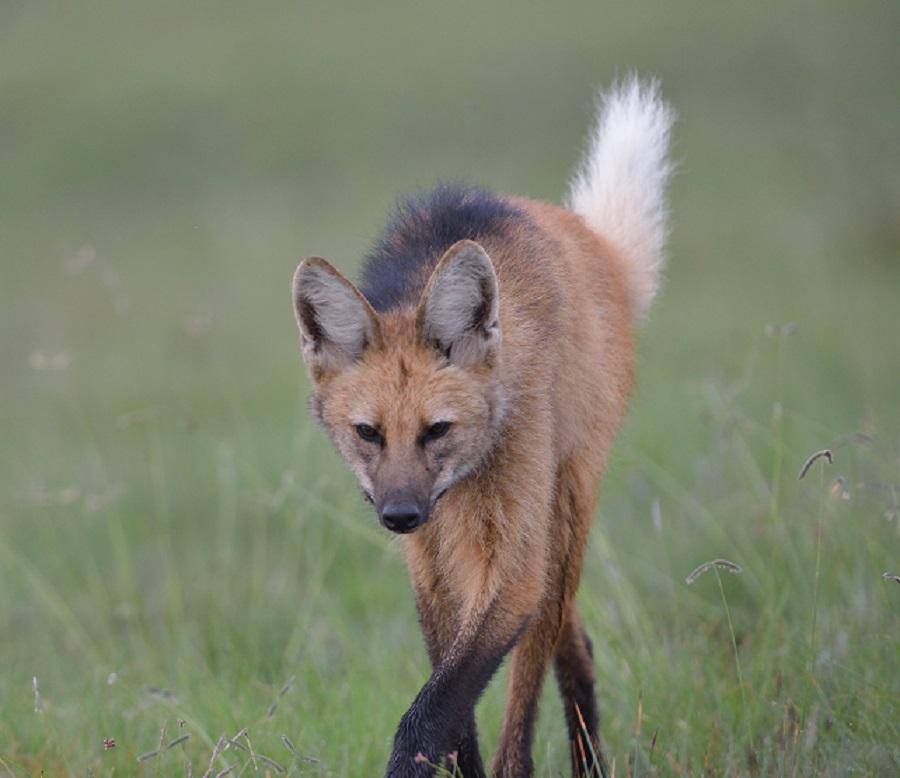LoboGuara: (274, 67, 689, 761)
